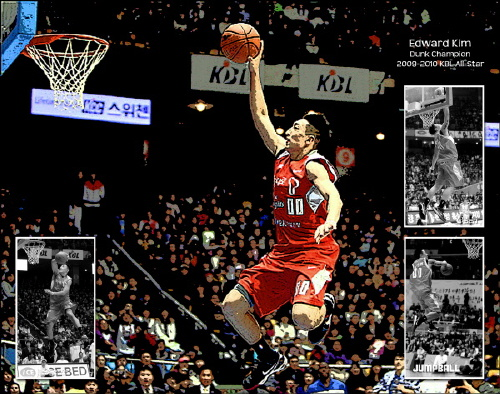ball: (216, 19, 267, 68)
basket: (25, 19, 105, 115)
shoot: (198, 18, 352, 387)
